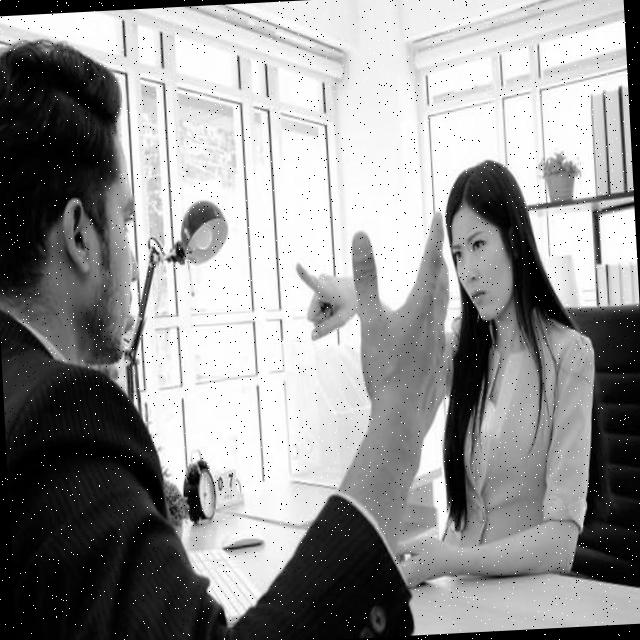Angry: (450, 205, 516, 322)
